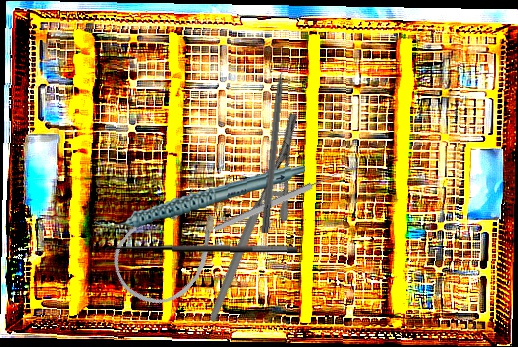Cannula: (98, 174, 241, 321)
Handpiece: (91, 164, 308, 231)
Hook Surgical: (104, 240, 298, 269)
Needle Holder: (151, 108, 354, 324)
Pusher: (260, 48, 291, 234)
Surgical Spoon: (212, 163, 356, 234)
